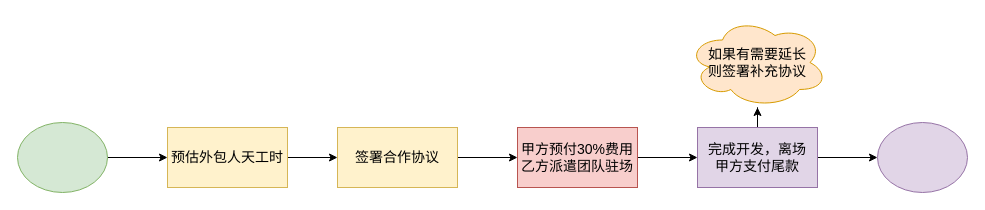
Image size: 985x210. Some labels were removed from this diagram. Here are the shapes that lost their labels. From the top down, the centre of each, then its label:
point (62, 157): 需求交流
point (922, 157): 结束
